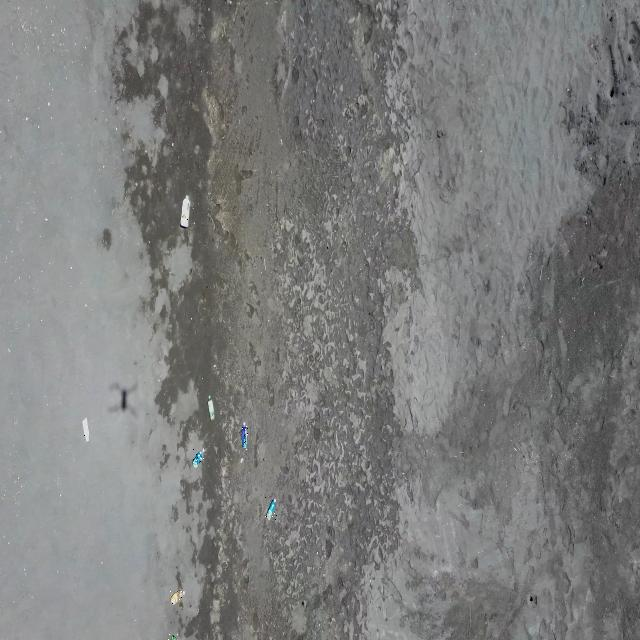plastic-bottle: (180, 195, 191, 228), (265, 497, 277, 520), (192, 449, 205, 470), (170, 590, 185, 606), (207, 395, 215, 421), (241, 422, 248, 450), (82, 418, 89, 442), (167, 634, 178, 640)
